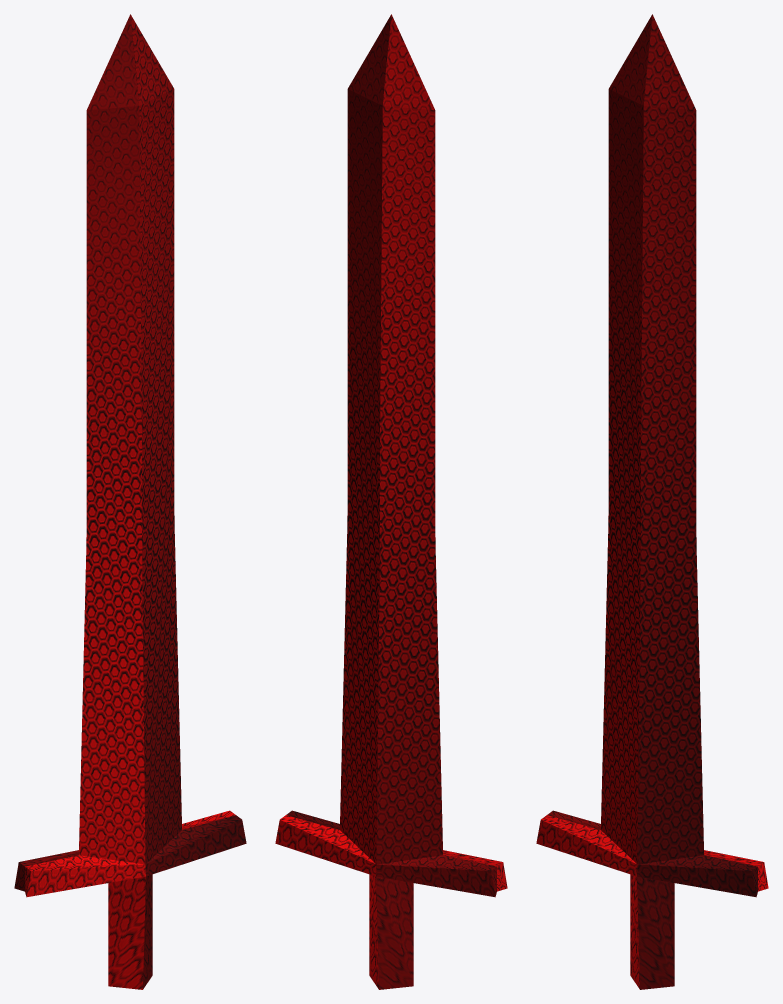
Rendered from sword.fbx.
3 renders of one model, left to right at view 1: azimuth 30°, elevation 25°; view 2: azimuth 150°, elevation 25°; view 3: azimuth 330°, elevation 25°, orthographic.
Visible parts, largest first — view 1: Cube; view 2: Cube; view 3: Cube.
Part boxes in pixels (x1,y1,x2,y2): Cube: (14, 14, 246, 989); Cube: (275, 14, 507, 989); Cube: (536, 14, 768, 989).
Size of the model in its own units: 0.2385 by 1 by 0.0584.
1 material, 1 textured.
